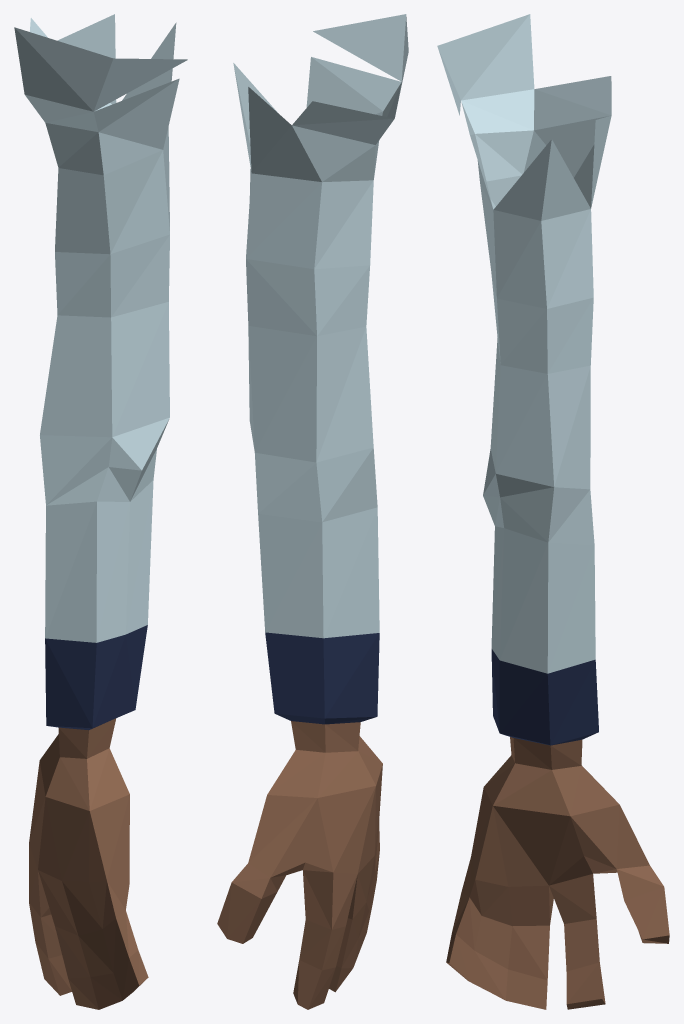
File: ArmL.obj
3 renders of one model, left to right at view 1: azimuth 30°, elevation 25°; view 2: azimuth 150°, elevation 25°; view 3: azimuth 270°, elevation 25°, orthographic. The views are drawn at different scales.
Size of the model in its own units: 0.1566 by 0.8641 by 0.1891.
1 material, 1 textured.
